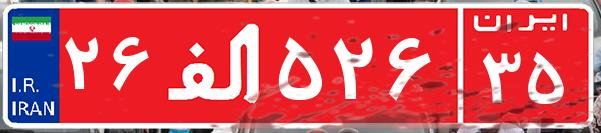2: (330, 28, 385, 110), (57, 26, 110, 107)
3: (475, 38, 525, 113)
5: (273, 28, 330, 110), (525, 38, 570, 115)
6: (385, 28, 445, 110), (110, 28, 158, 105)
الف: (158, 15, 273, 115)
